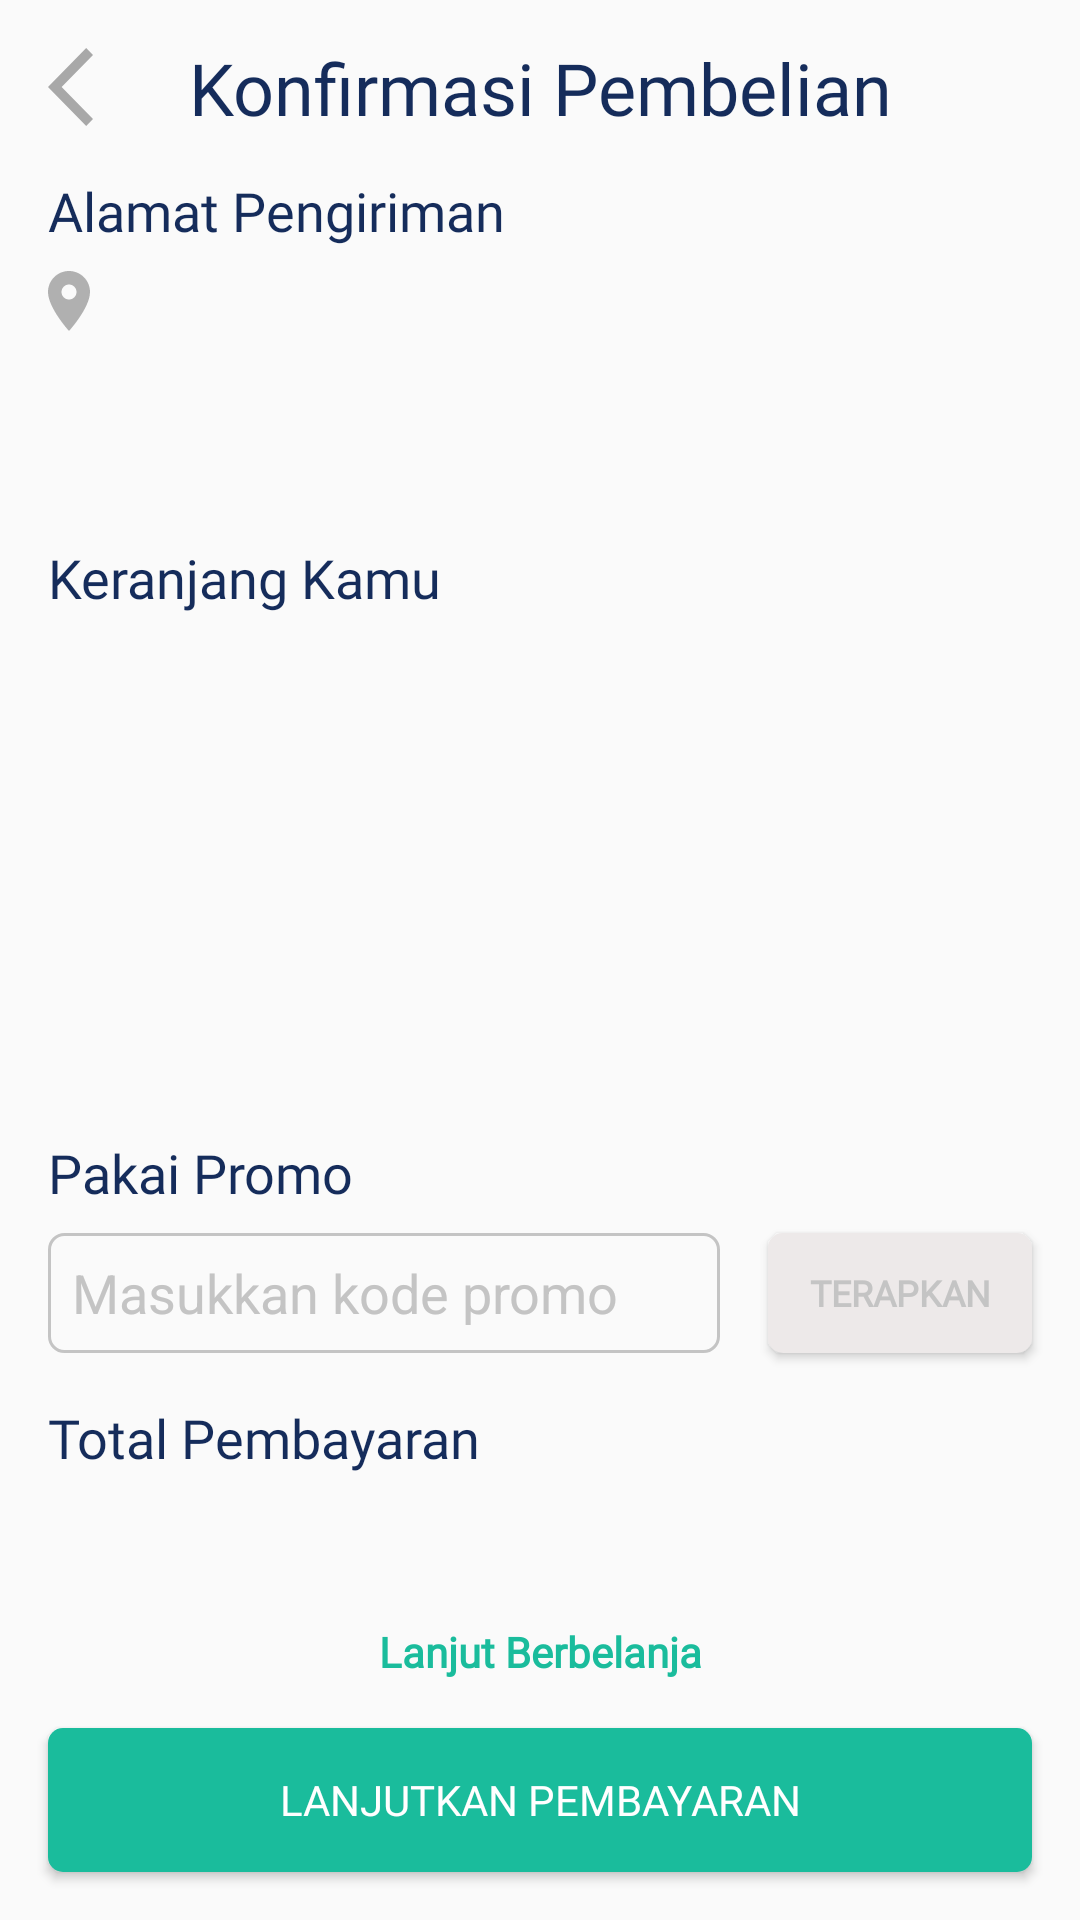

Icon click points for this 1080px x 1920px phone screenshot, format (x,y):
back: (70,87)
location pin: (69,301)
